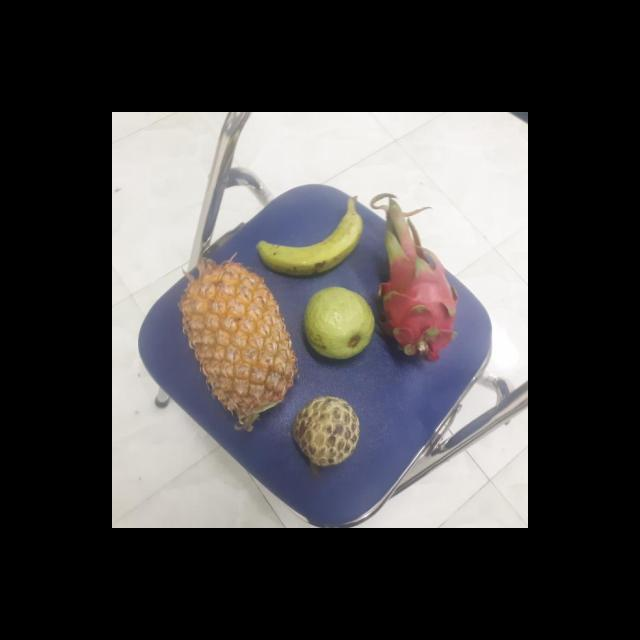Sakya fruit: (288, 396, 360, 468)
banana: (253, 205, 362, 277)
guava: (300, 286, 375, 360)
pineapple: (178, 261, 294, 424)
pitaya: (372, 240, 456, 354)
